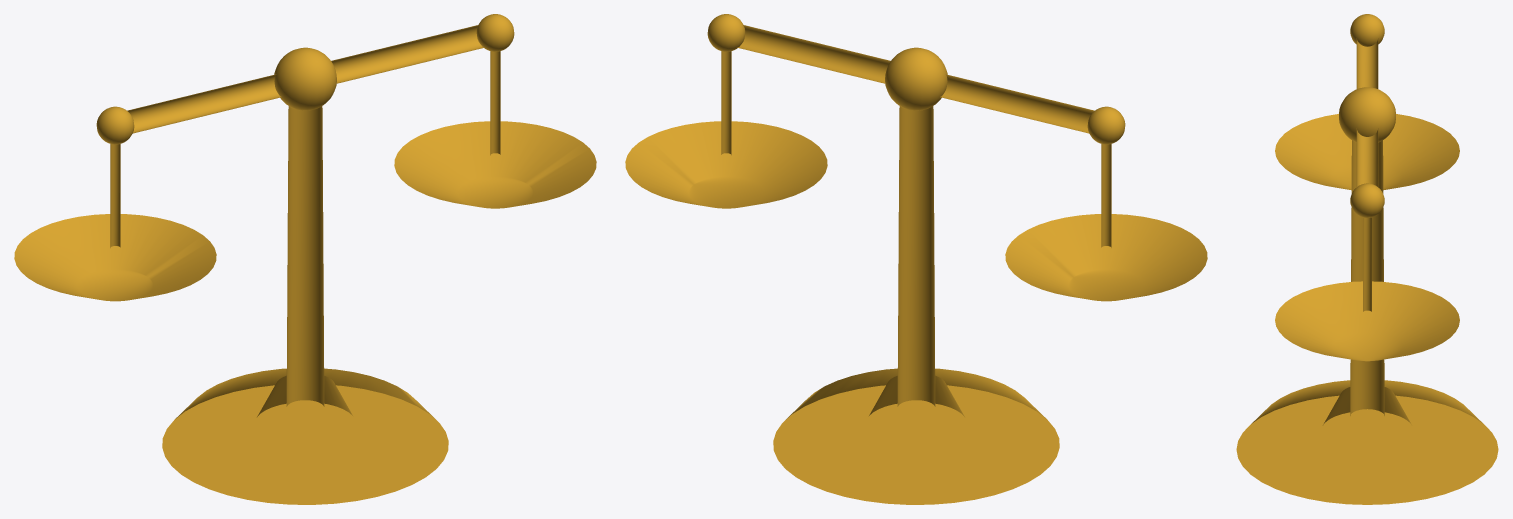
The model's file is economics.glb.
3 views of the same model, side by side, from view 1: azimuth 30°, elevation 25°; view 2: azimuth 150°, elevation 25°; view 3: azimuth 270°, elevation 25° (orthographic). The views are drawn at different scales.
Visible parts, largest first — view 1: economics; view 2: economics; view 3: economics.
Part boxes in pixels (<box>): economics: <box>14,14,596,504</box>; economics: <box>625,14,1207,504</box>; economics: <box>1236,14,1498,504</box>.
Size of the model in its own units: 1 by 0.6776 by 0.4473.
